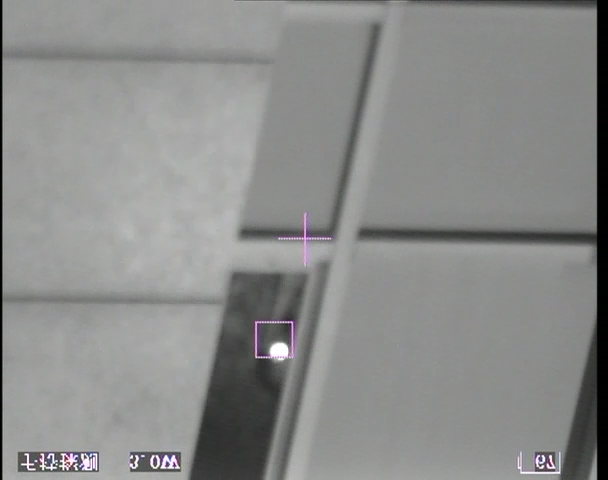my: (268, 341, 291, 363)
